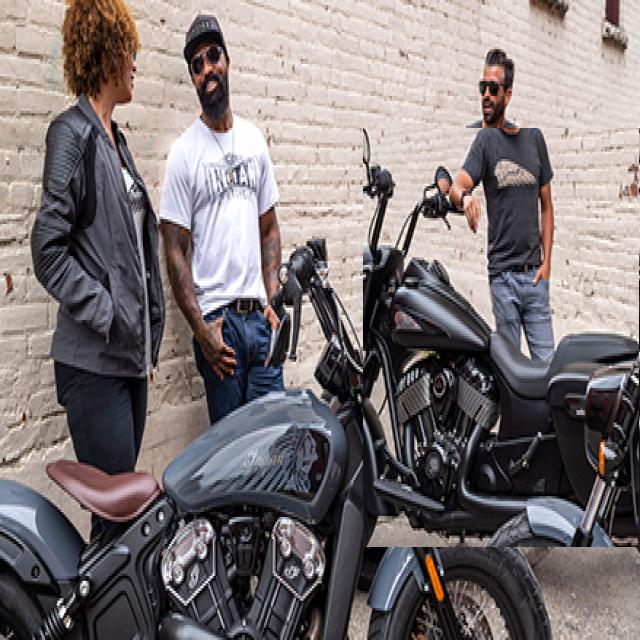motorcycle: (0, 241, 550, 638), (364, 128, 639, 547)
